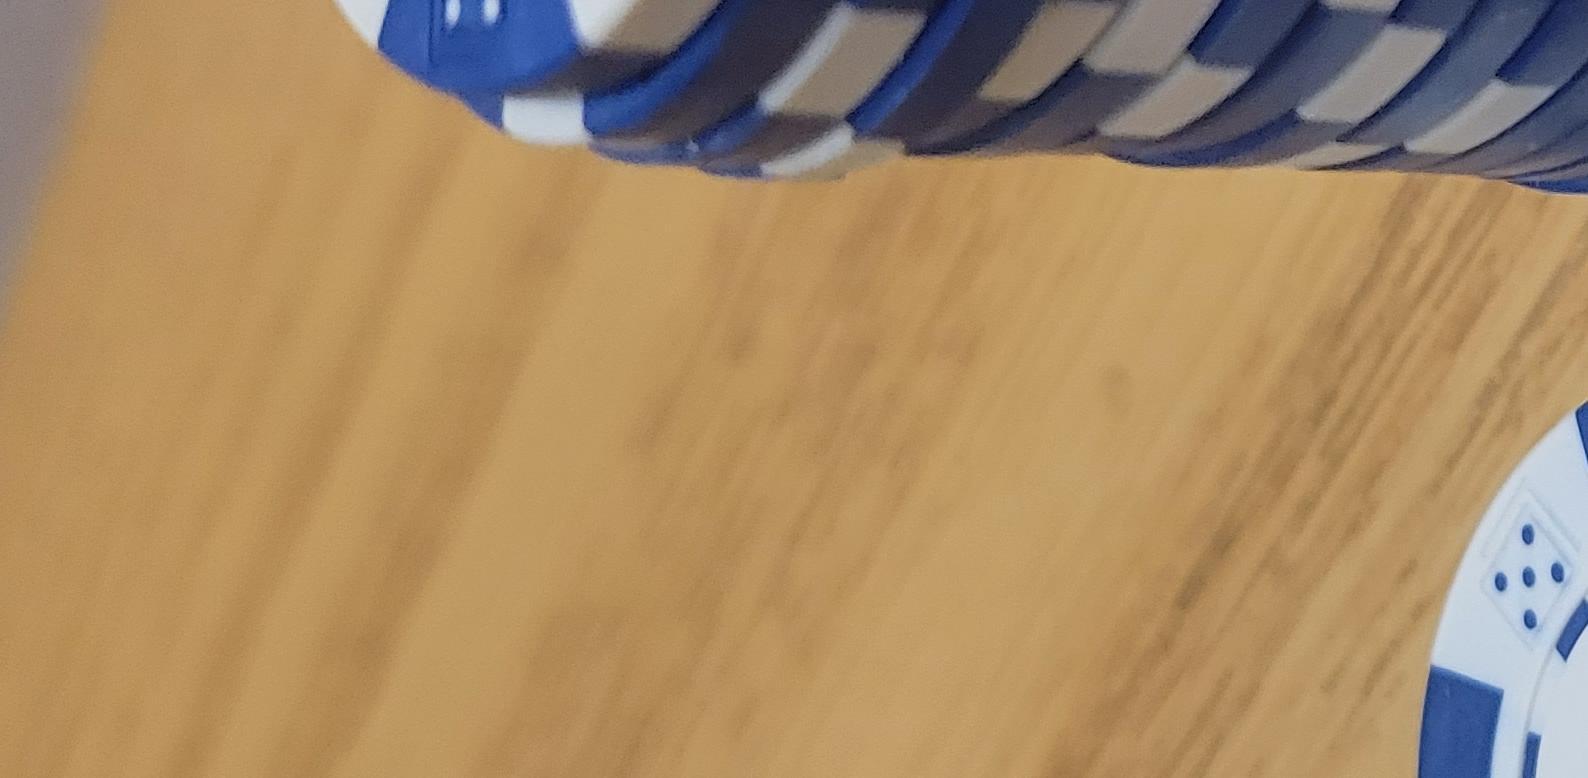Chip: (1, 436, 1102, 778)
